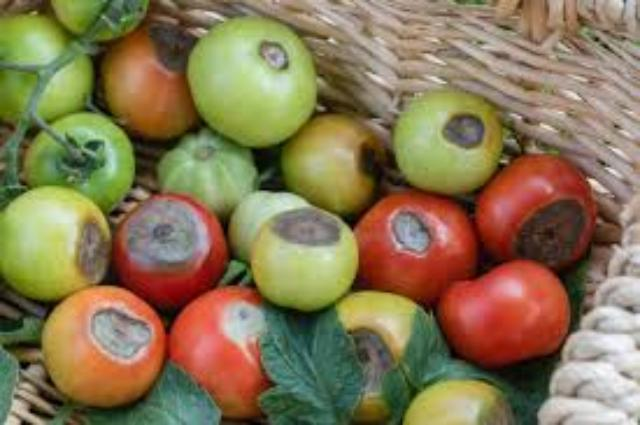defect: (41, 285, 167, 412), (356, 186, 477, 313), (473, 153, 600, 273), (108, 189, 233, 309), (4, 182, 113, 308), (248, 206, 364, 314), (392, 86, 504, 196)
